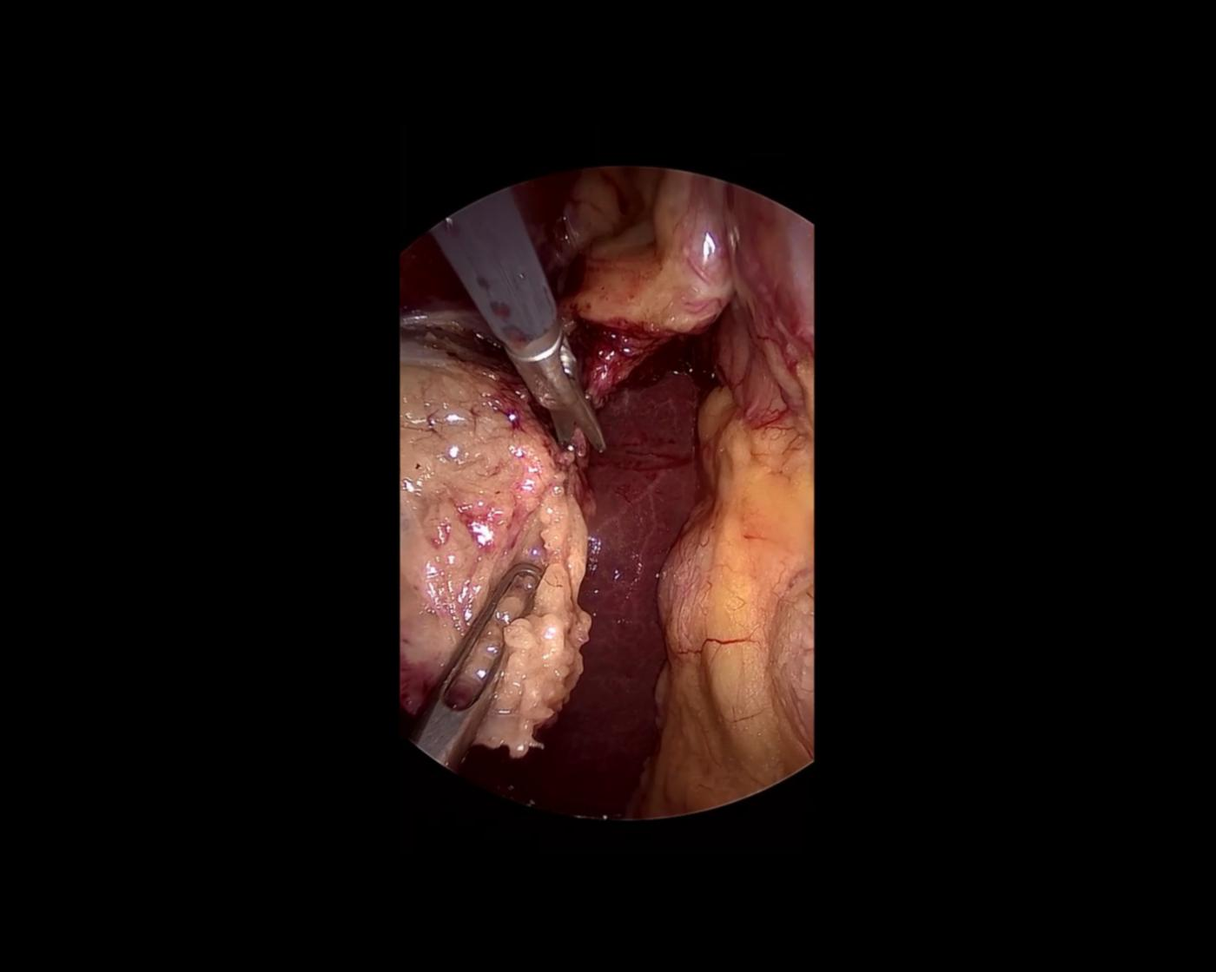Forceps: (402, 545, 559, 771)
Gallbladder: (397, 336, 584, 755)
Liver: (459, 324, 798, 834), (373, 238, 497, 383)
